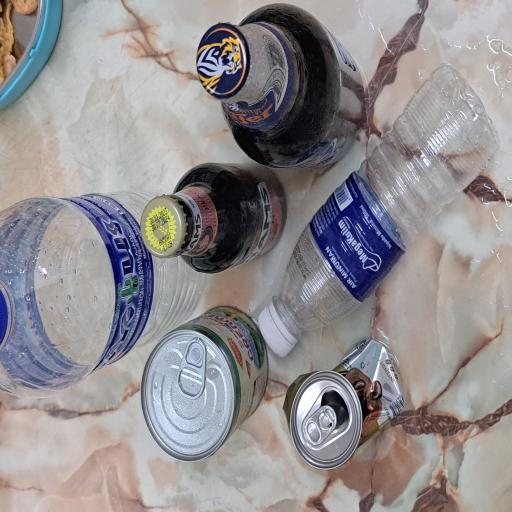can: (39, 188, 156, 355), (30, 375, 130, 512)
glass bottle: (256, 259, 381, 493), (177, 190, 262, 384)
plastic bottle: (84, 0, 242, 280), (137, 373, 336, 512)
plastic bottle cap: (115, 345, 157, 396)
pop tab: (84, 235, 131, 276), (49, 406, 80, 451)
